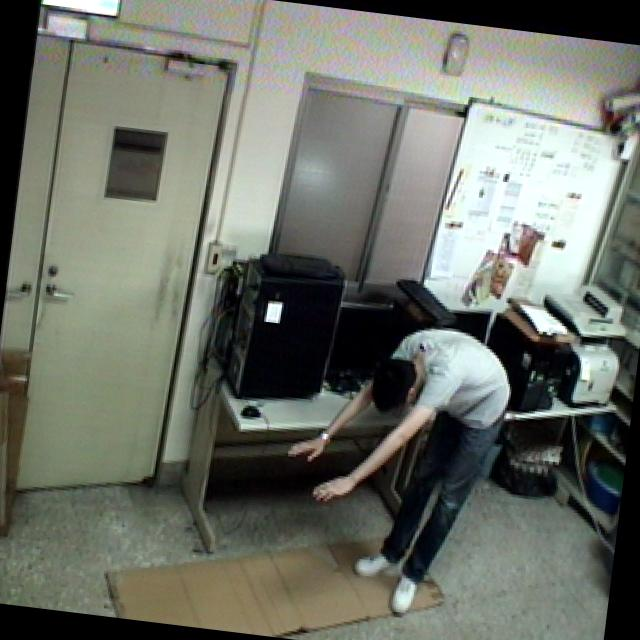bend: (267, 306, 522, 632)
